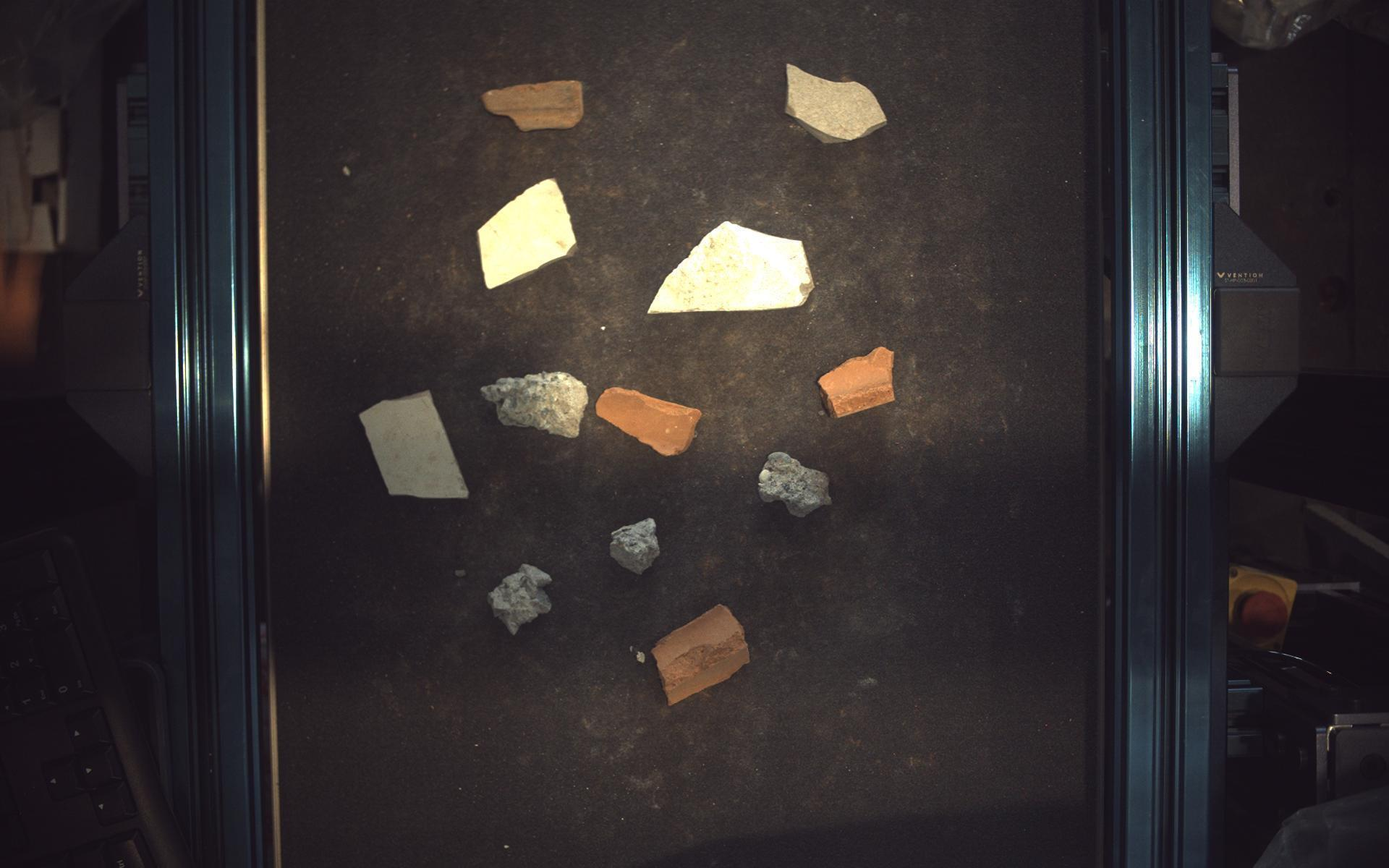brick: (653, 605, 751, 706), (597, 387, 703, 456), (820, 346, 897, 418), (482, 79, 585, 130)
concrete: (481, 372, 589, 438), (759, 453, 833, 518), (488, 564, 552, 636), (611, 518, 661, 575)
tile: (649, 221, 816, 313), (359, 391, 468, 498), (478, 179, 577, 289), (787, 63, 888, 142)
